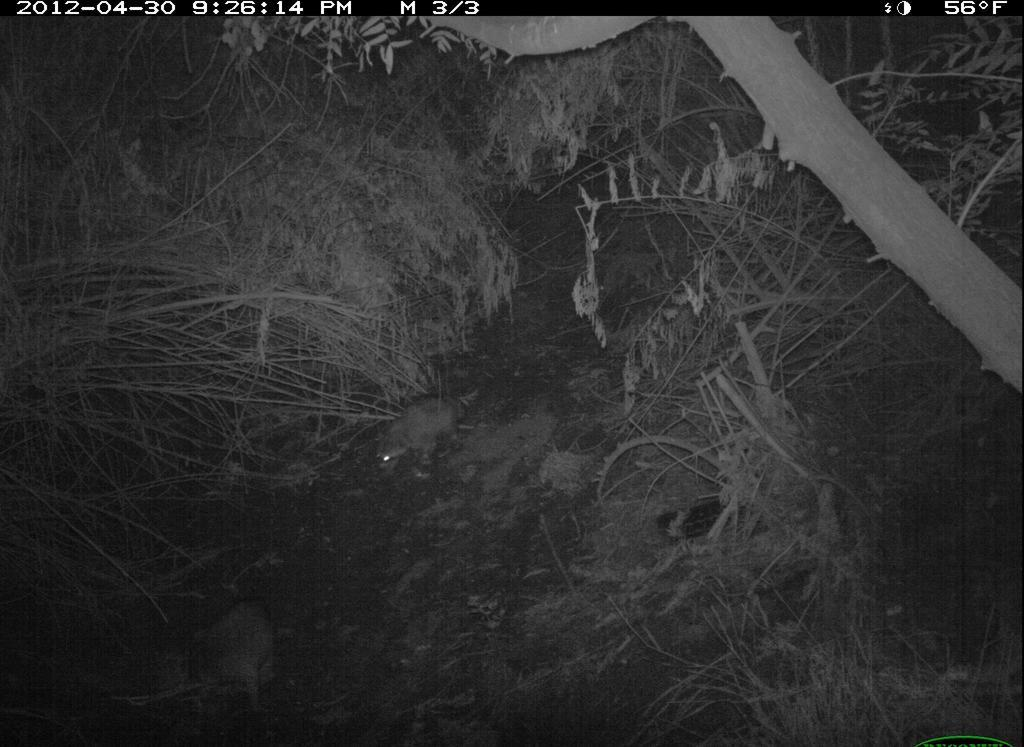raccoon: (175, 589, 281, 721), (364, 388, 491, 473)
